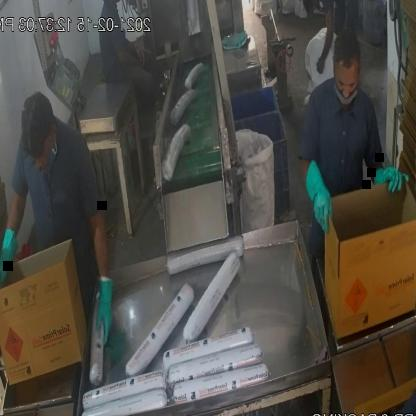glove: (87, 264, 122, 354), (301, 158, 339, 235), (0, 218, 26, 304), (366, 155, 415, 200)
no_glove: (312, 6, 340, 78), (115, 34, 154, 68)
